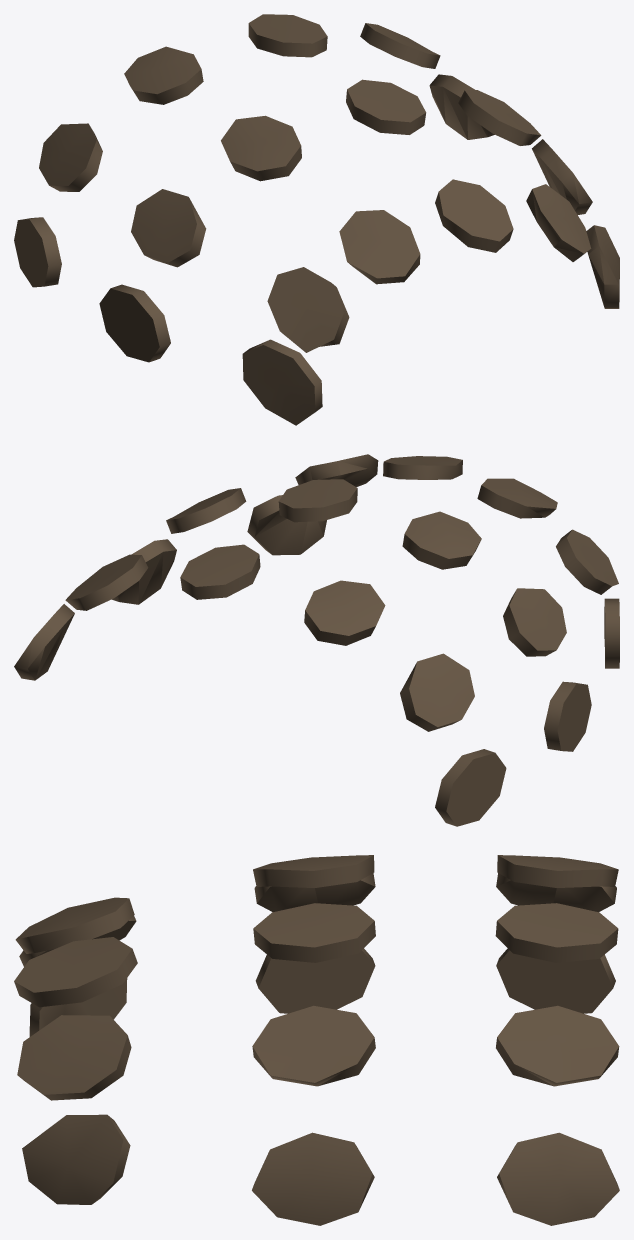
The model's file is chimera_c.obj.
3 renders of one model, top to bottom at view 1: azimuth 30°, elevation 25°; view 2: azimuth 150°, elevation 25°; view 3: azimuth 270°, elevation 25°, orthographic. The views are drawn at different scales.
Visible parts, largest first — view 1: source_component_004, source_component_005, source_component_003, source_component_010, source_component_009, source_component_002, source_component_011, source_component_016, source_component_008, source_component_015, source_component_014, source_component_001 (+6 smaller); view 2: source_component_016, source_component_015, source_component_017, source_component_010, source_component_014, source_component_009, source_component_008, source_component_000, source_component_011, source_component_013, source_component_004, source_component_003 (+6 smaller); view 3: source_component_006, source_component_012, source_component_001, source_component_007, source_component_013, source_component_000, source_component_002, source_component_008, source_component_014, source_component_017, source_component_011, source_component_003 (+6 smaller).
Boxes of the visible parts, x1,y1,x2,y2 form: source_component_004: (267, 267, 349, 352); source_component_005: (242, 339, 322, 425); source_component_003: (339, 210, 420, 284); source_component_010: (131, 189, 206, 267); source_component_009: (221, 115, 301, 181); source_component_002: (435, 179, 513, 252); source_component_011: (99, 284, 170, 362); source_component_016: (39, 123, 102, 191); source_component_008: (346, 79, 426, 134); source_component_015: (124, 46, 203, 104); source_component_014: (248, 14, 327, 57); source_component_001: (526, 184, 591, 261); source_component_016: (400, 653, 474, 731); source_component_015: (304, 580, 385, 645); source_component_017: (435, 749, 506, 826); source_component_010: (503, 588, 566, 656); source_component_014: (180, 544, 260, 599); source_component_009: (402, 511, 481, 569); source_component_008: (278, 479, 357, 522); source_component_000: (247, 495, 326, 555); source_component_011: (544, 681, 591, 751); source_component_013: (65, 554, 148, 610); source_component_004: (556, 529, 618, 594); source_component_003: (477, 478, 557, 518); source_component_006: (252, 1132, 374, 1225); source_component_012: (497, 1132, 619, 1225); source_component_001: (17, 1015, 131, 1100); source_component_007: (252, 1005, 375, 1086); source_component_013: (496, 1005, 619, 1086); source_component_000: (22, 1114, 130, 1204); source_component_002: (14, 937, 137, 1007); source_component_008: (253, 903, 375, 962); source_component_014: (495, 903, 618, 962); source_component_017: (496, 948, 615, 1013); source_component_011: (255, 948, 375, 1013); source_component_003: (15, 897, 134, 953).
Size of the model in its own units: 0.6833 by 0.294 by 0.6355.
